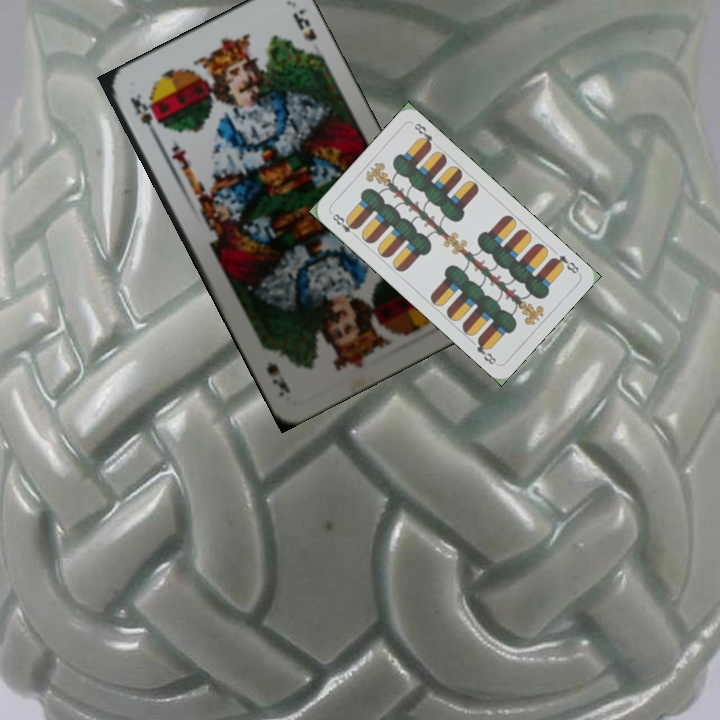E8: (328, 210, 360, 240), (547, 251, 582, 276)
SK: (126, 89, 162, 142)
